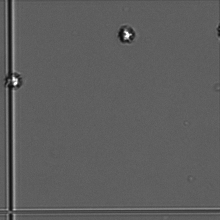Living Cell: (116, 23, 138, 45), (5, 72, 24, 89)
